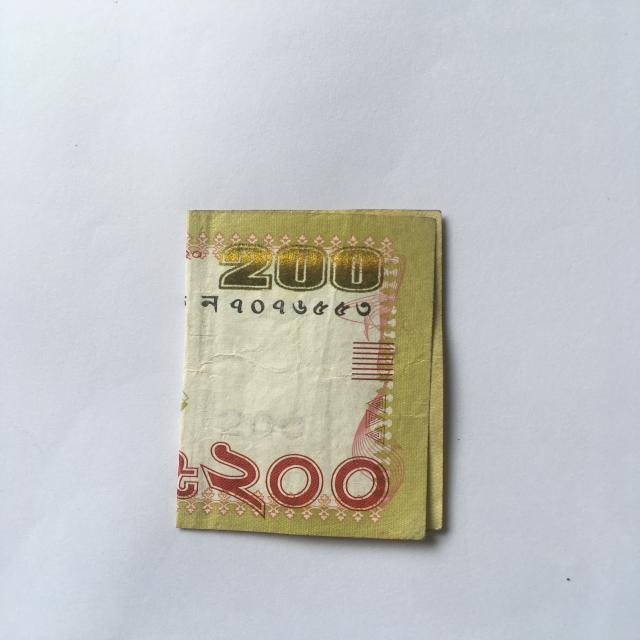Taka: (172, 202, 448, 554)
